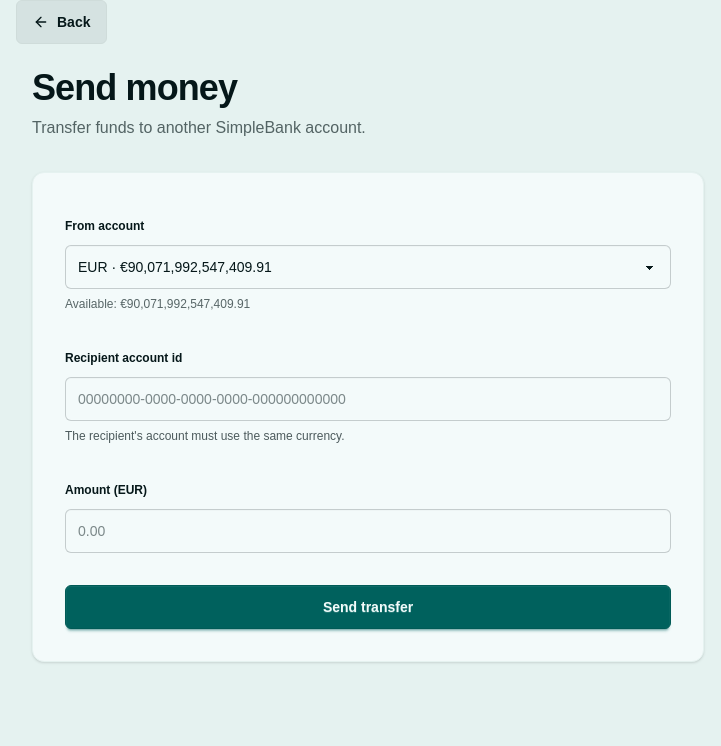
Test case: TransferPage › submits maximum-safe EUR decimal text exactly
In the field labelled "Recipient account id": (368, 399) [65,377,671,421], type "recipient"
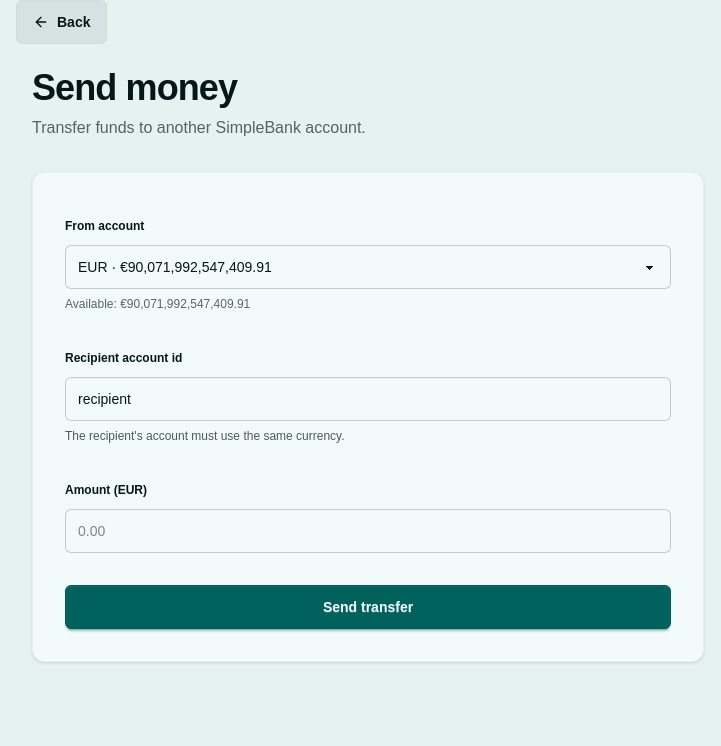
In the field labelled "Amount (EUR)": (368, 531) [65,509,671,553], type "90071992547409.91"
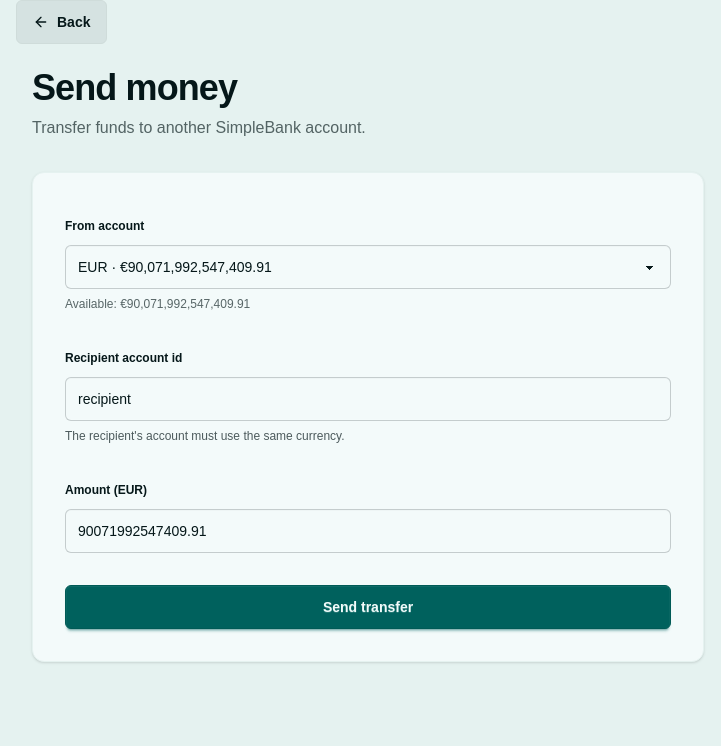
Click the button "Send transfer": (368, 607) [65,585,671,629]
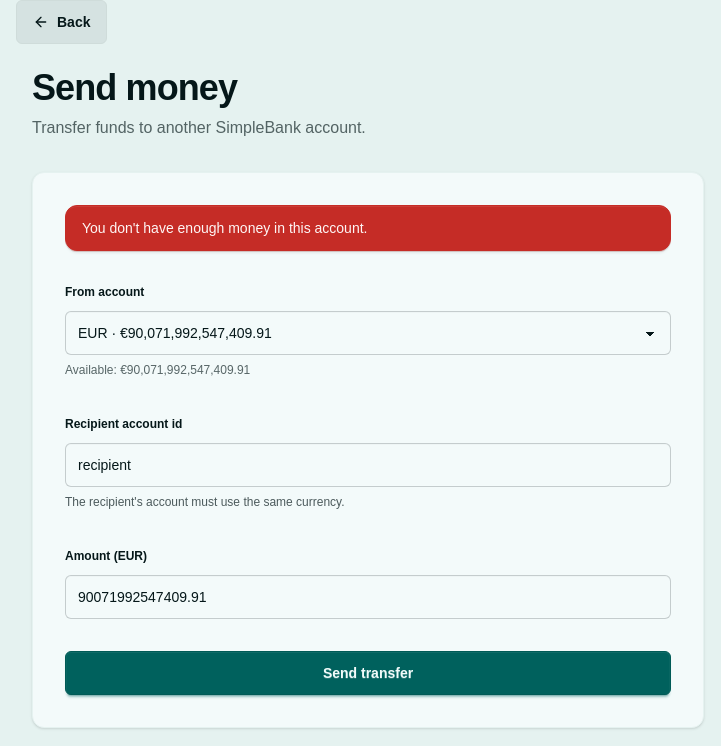
Check: the message "You don't have enough money in this account." is shown, box [65,205,671,251]
